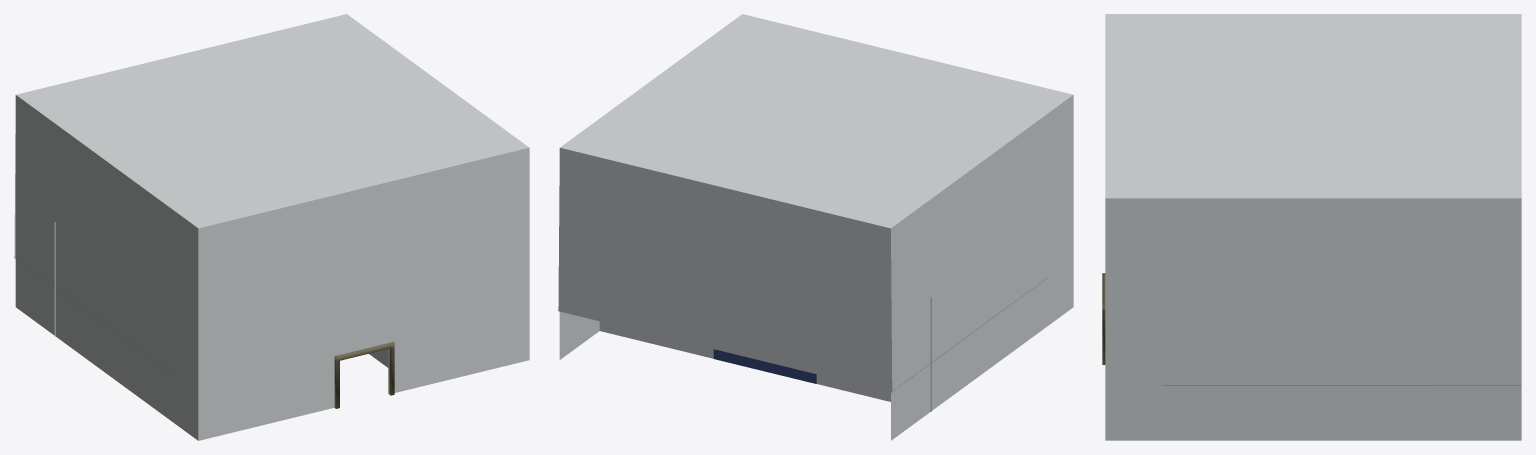
The model's file is pockitgallery.glb.
The picture shows the model from 3 angles, left to right: view 1: azimuth 30°, elevation 25°; view 2: azimuth 150°, elevation 25°; view 3: azimuth 270°, elevation 25°; orthographic projection. The views are drawn at different scales.
Visible parts, largest first — view 1: Plane, Cube; view 2: Plane; view 3: Plane.
Part boxes in pixels (bbox=[...]): Plane: bbox=[14, 14, 529, 440]; Cube: bbox=[334, 342, 394, 408]; Plane: bbox=[558, 14, 1073, 440]; Plane: bbox=[1105, 14, 1521, 440].
Bounding box in the file's own units: 13.98 × 8.52 × 13.35.
Materials: 4 (1 with a texture image).
